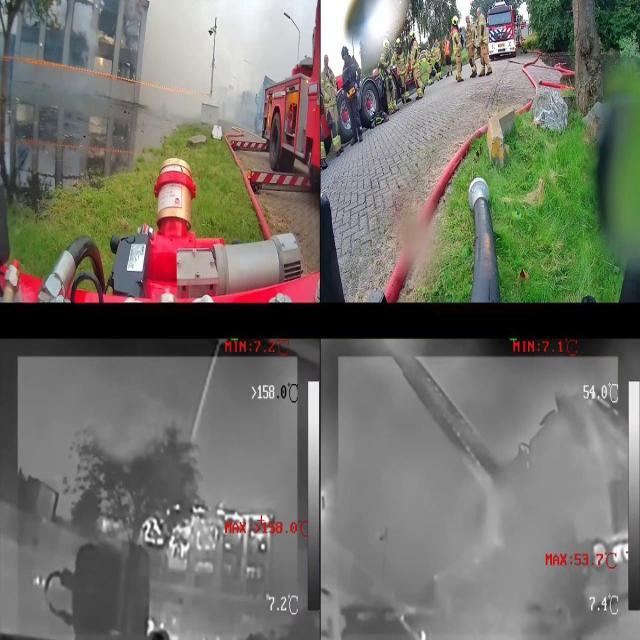Fire: (98, 58, 104, 66)
Smoke: (78, 18, 100, 63)
